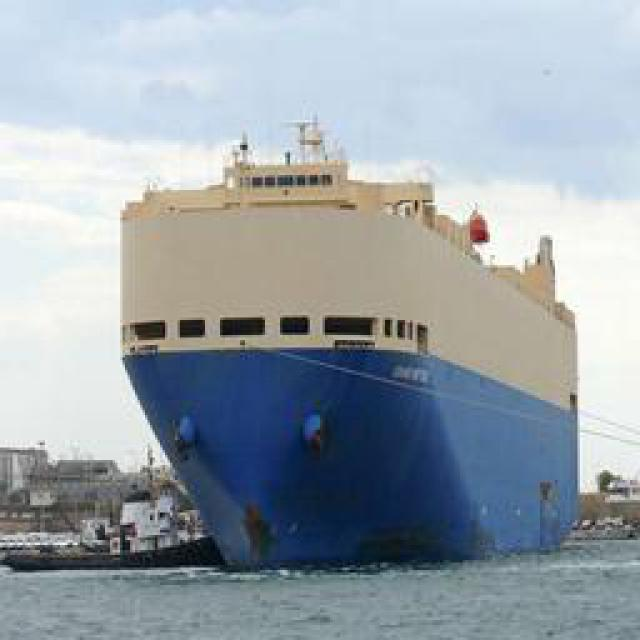Ship: (111, 165, 589, 568)
